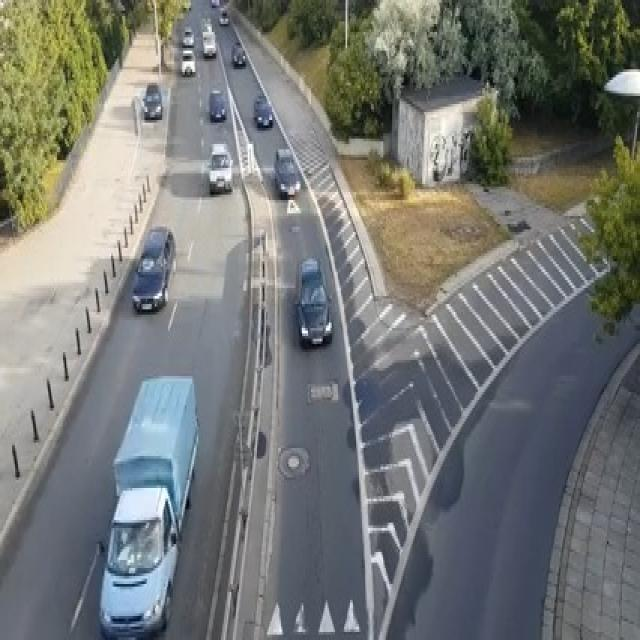bus: (111, 374, 198, 534)
car: (98, 486, 178, 638), (130, 224, 176, 312), (294, 256, 332, 347), (206, 141, 233, 192), (274, 147, 300, 197), (141, 83, 162, 120), (252, 93, 274, 128), (209, 88, 225, 120), (180, 48, 196, 75), (202, 27, 216, 56), (231, 40, 245, 67), (182, 27, 194, 45), (200, 16, 212, 32), (218, 8, 228, 24), (210, 0, 219, 5)
